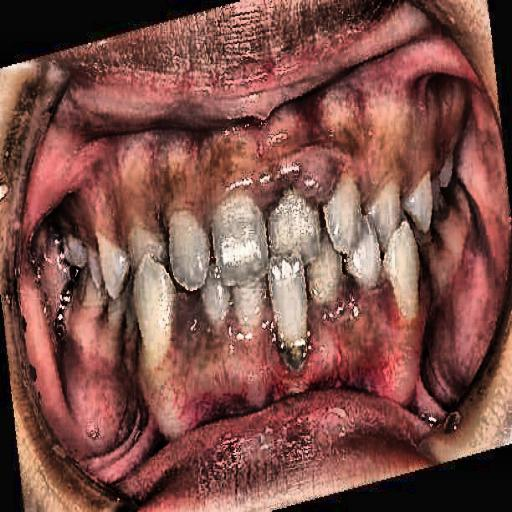Gingivitis: (77, 294, 434, 418), (56, 108, 430, 206)
